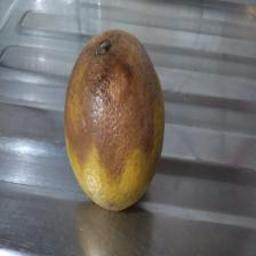Orange Rotten: (56, 28, 174, 256)
